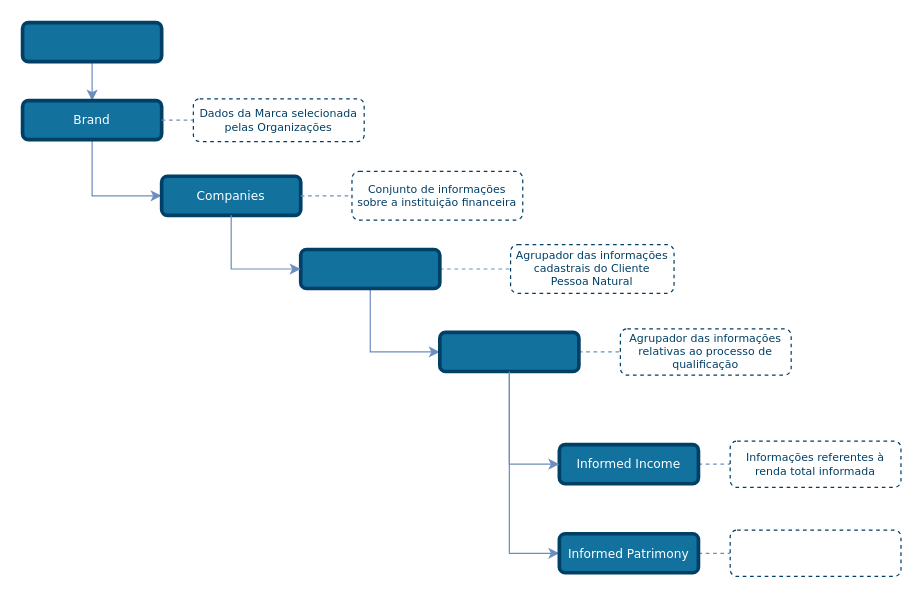
Image size: 922x598. Some labels were removed from this diagram. The centre of each missing label's shape, as x and y in pixels:
"Data" belongs at [91,41].
"Informações referentes ao patrimônio informado" belongs at [815,552].
"Personal Customers" belongs at [369,268].
"Qualification" belongs at [508,351].
